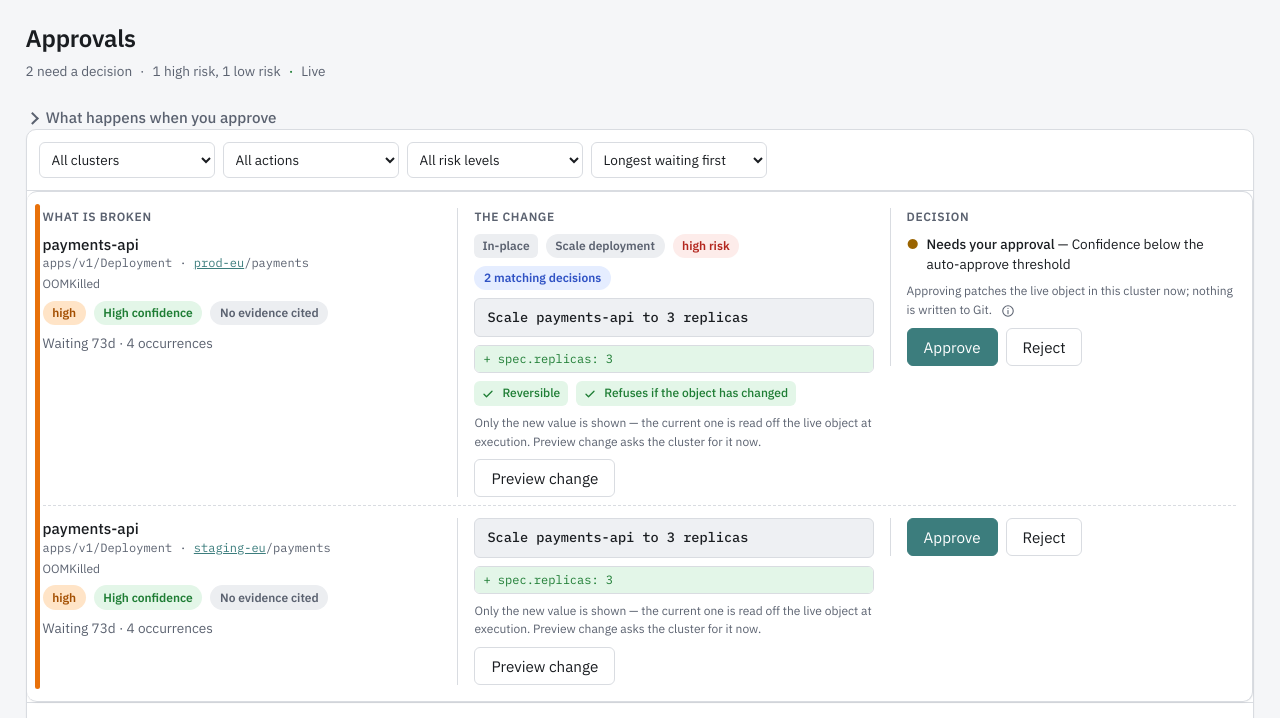
Test: ApprovalsPage — page structure (PROJECT.md D16, B167) › narrows the queue by cluster
This screenshot has width=1280, height=718.
Check: the text "2 need a decision" is shown, box [26, 61, 132, 82]
Select "staging-eu" in the 1st dropdown named "Filter by cluster": (127, 160) [39, 142, 215, 178]
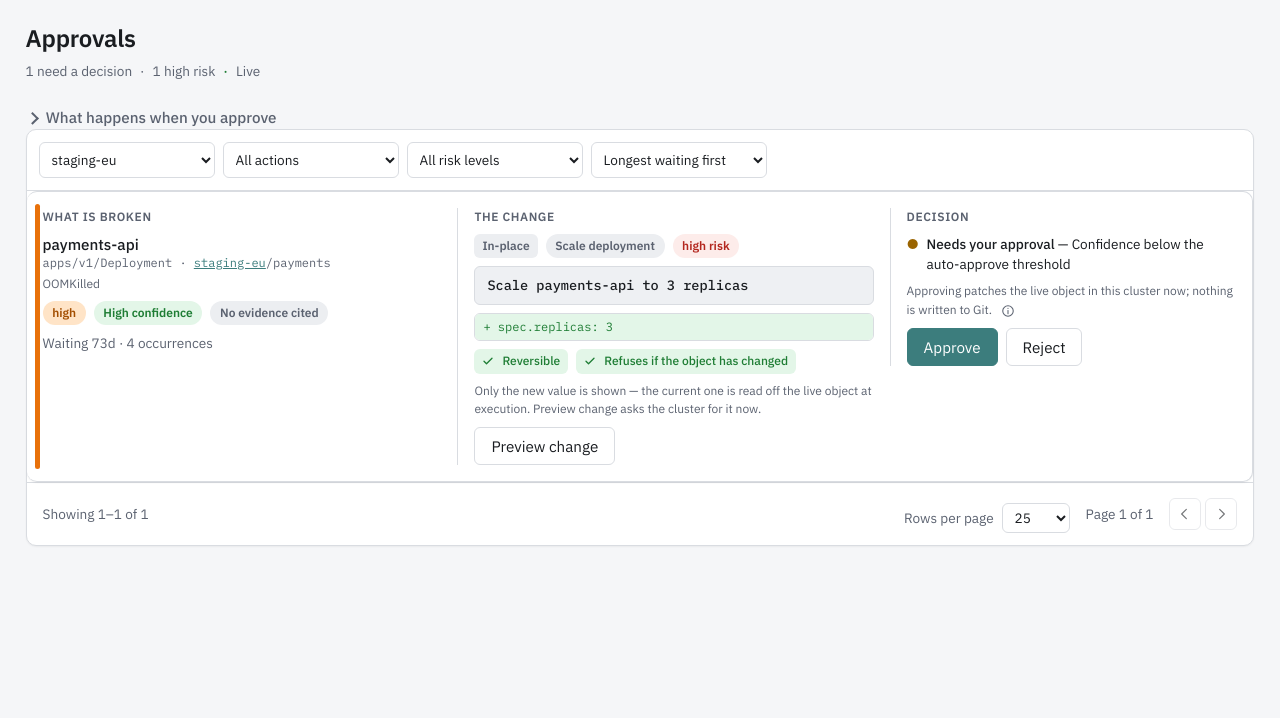
Check: the text "Showing 1–1 of 1" is shown, box [43, 504, 148, 524]
